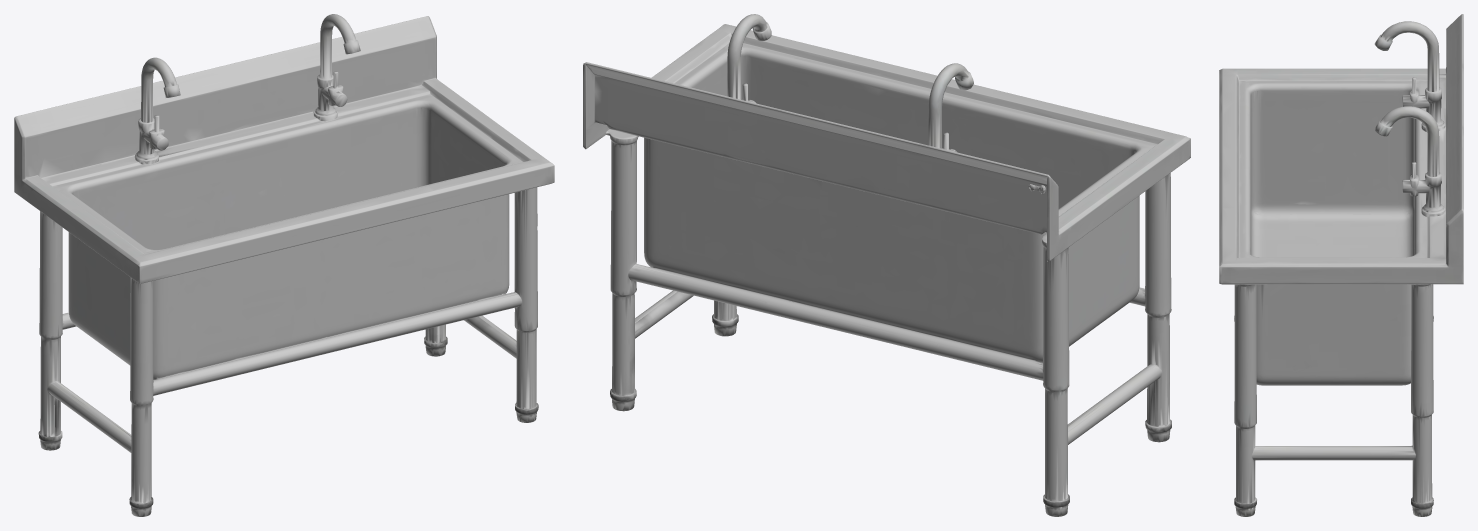
The model's file is mopsink.glb.
3 views of the same model, side by side, from view 1: azimuth 30°, elevation 25°; view 2: azimuth 150°, elevation 25°; view 3: azimuth 270°, elevation 25° (orthographic). The views are drawn at different scales.
Visible parts, largest first — view 1: material; view 2: material; view 3: material.
Part boxes in pixels (box(x1,y1,x2,y2)): material: box(14, 14, 554, 516); material: box(583, 14, 1190, 516); material: box(1219, 14, 1463, 516).
Size of the model in its own units: 0.8876 by 0.749 by 0.4649.
Materials: 1 (1 with a texture image).
